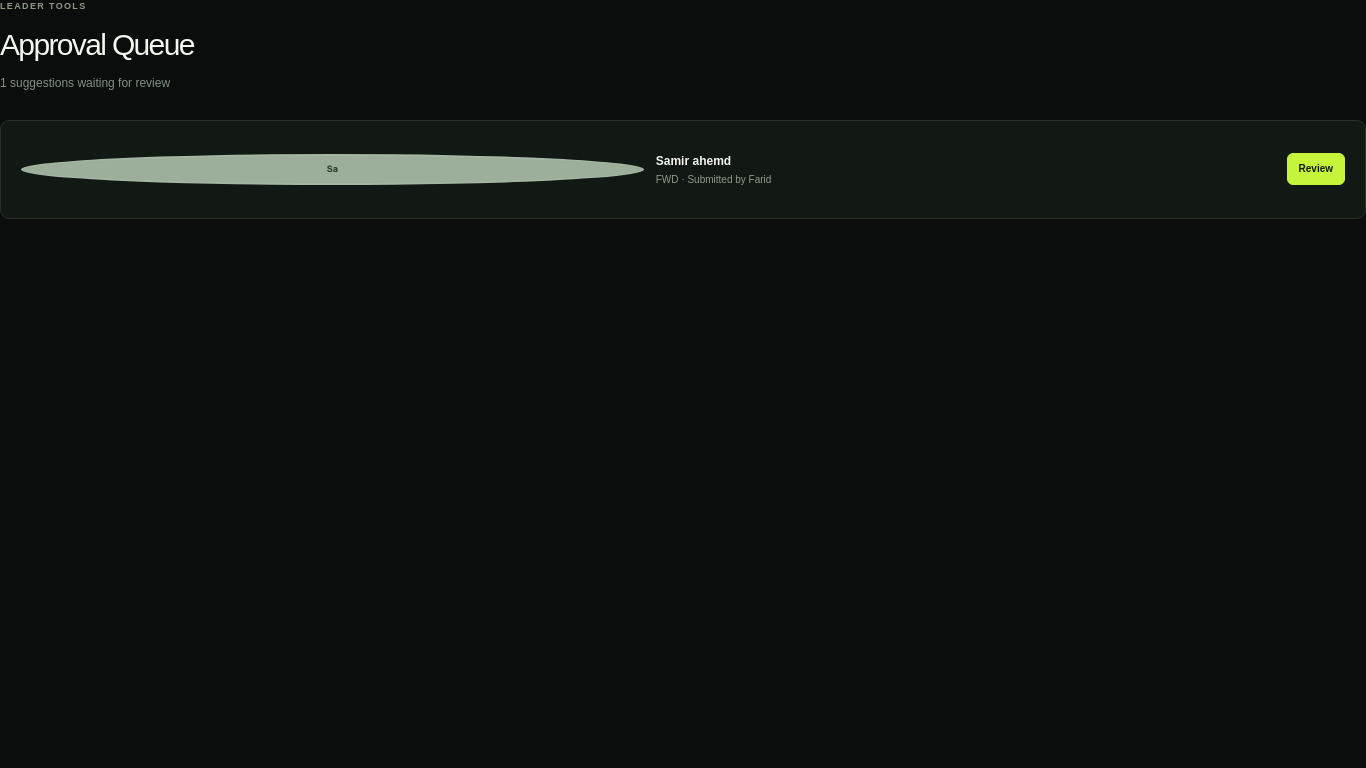
it: live suggestion approval sheet › requires a rejection reason and closes after the decision succeeds
The width and height of the screenshot is (1366, 768).
Click the button "Review". click: x=1316, y=169
box: [1286,153,1345,185]
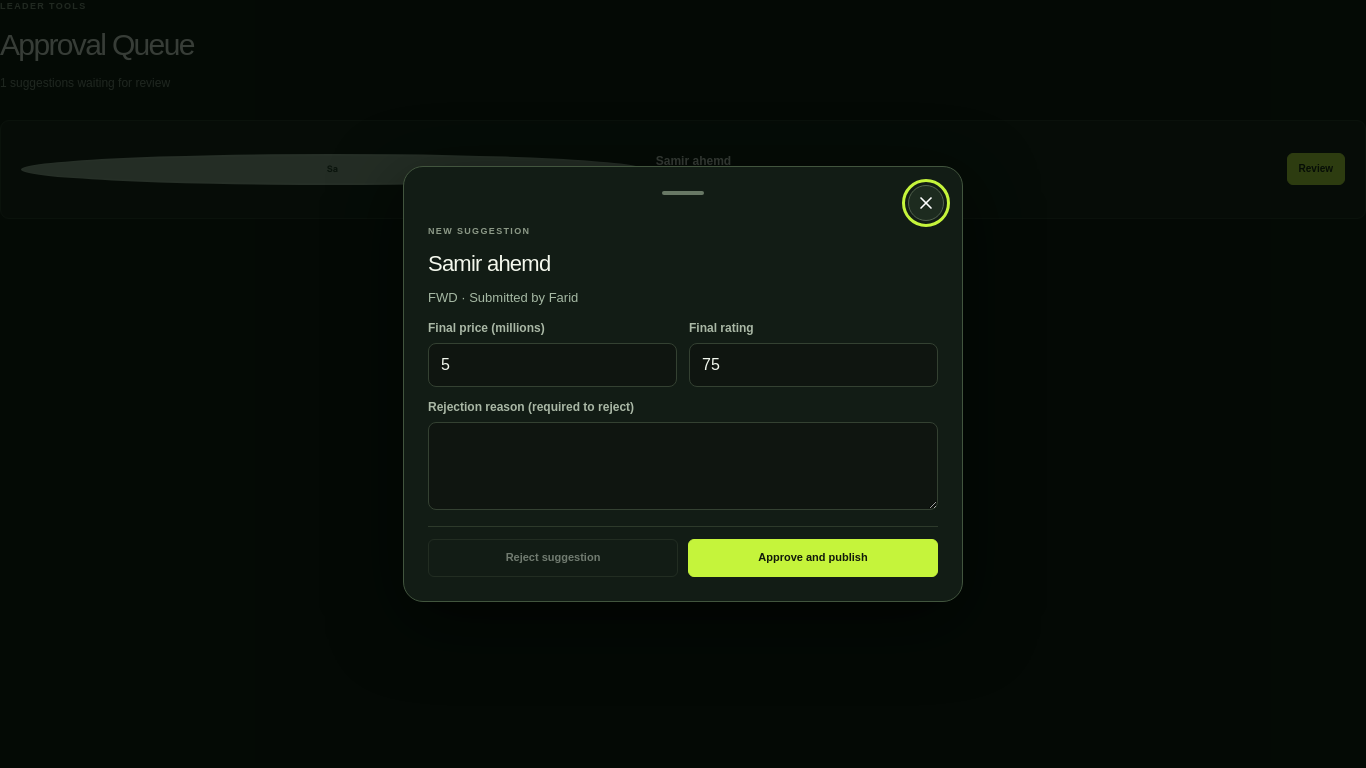
Check: the dialog is shown, box [403,166,963,602]
Check: the button "Reject suggestion" is disabled, box [428,540,678,577]
Type "Not a fit for this league" into the text box labelled "Rejection reason (required to reject)". click: x=683, y=466
box: [428,422,938,510]
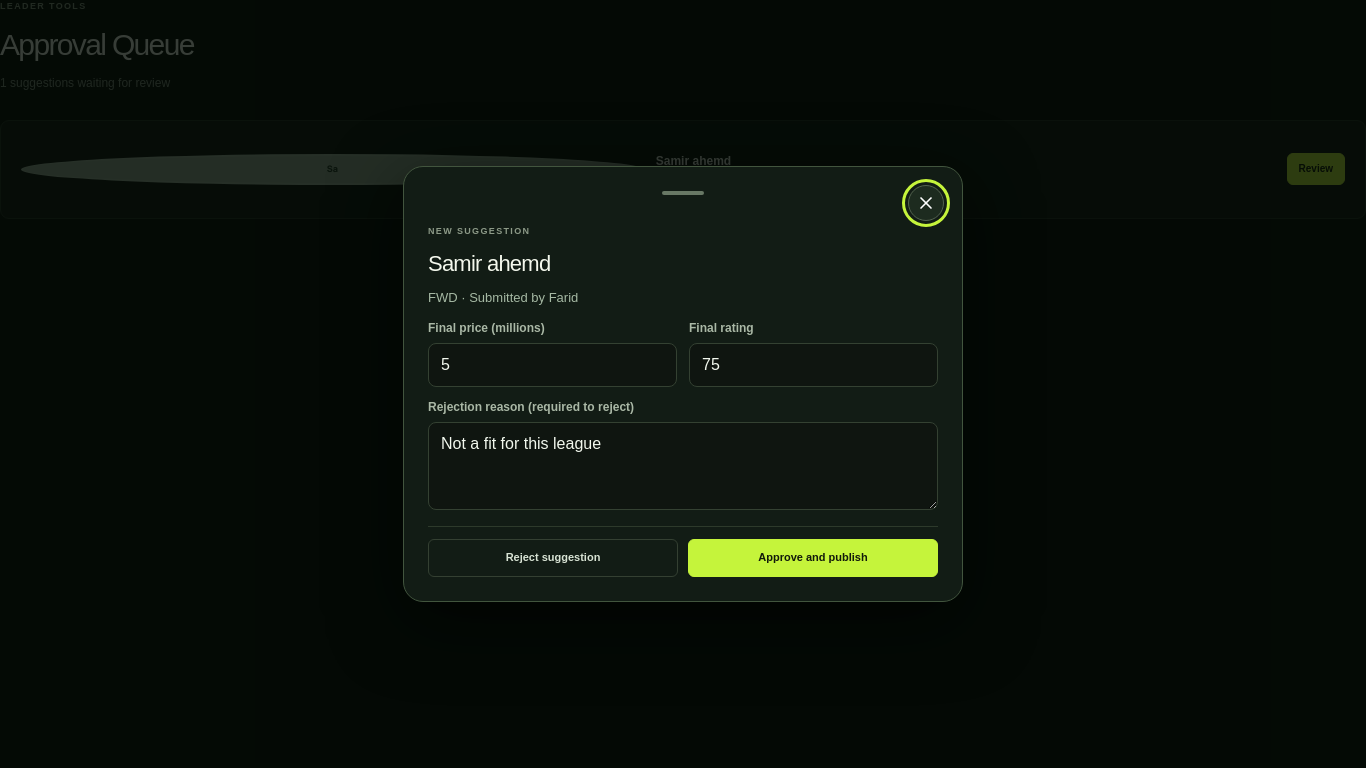
Check: the button "Reject suggestion" is enabled
Click the button "Reject suggestion". click: x=553, y=558
box: [428,540,678,577]
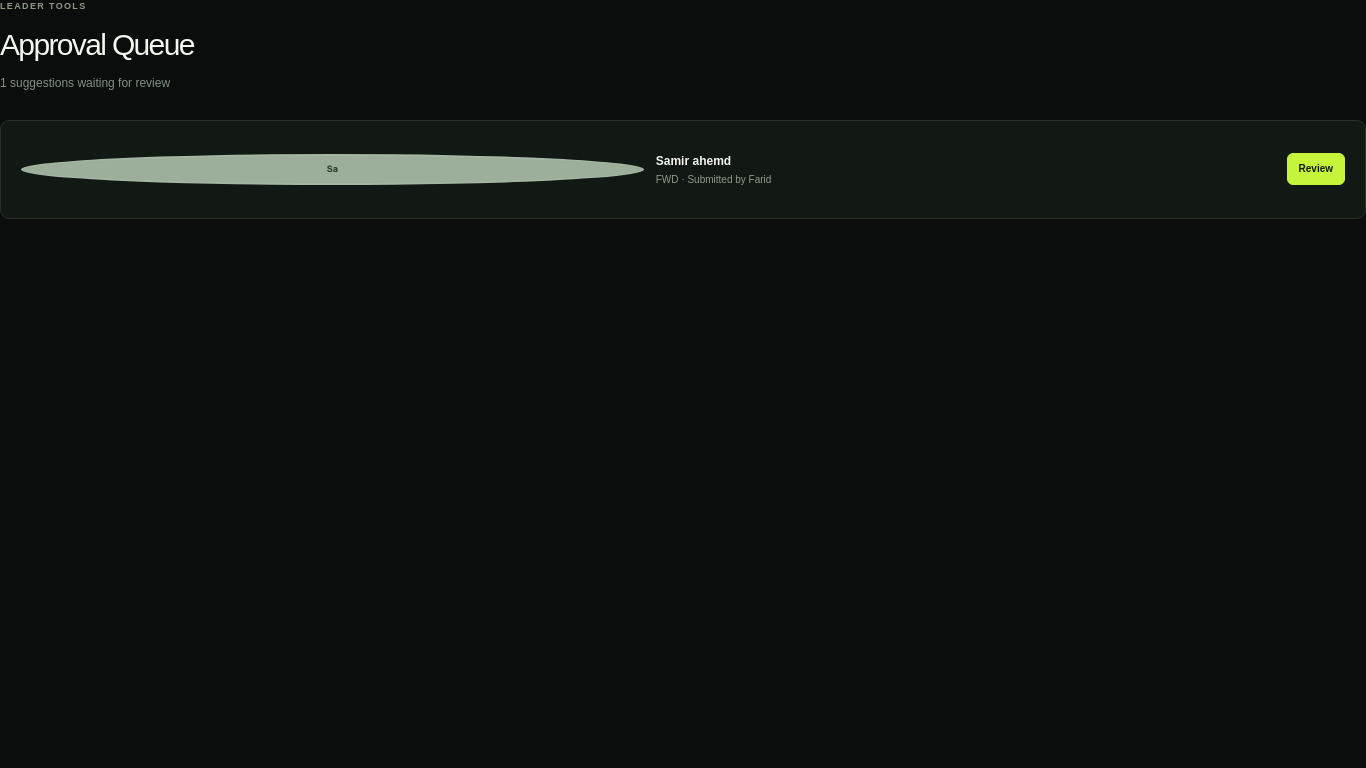
Check: the dialog is gone
